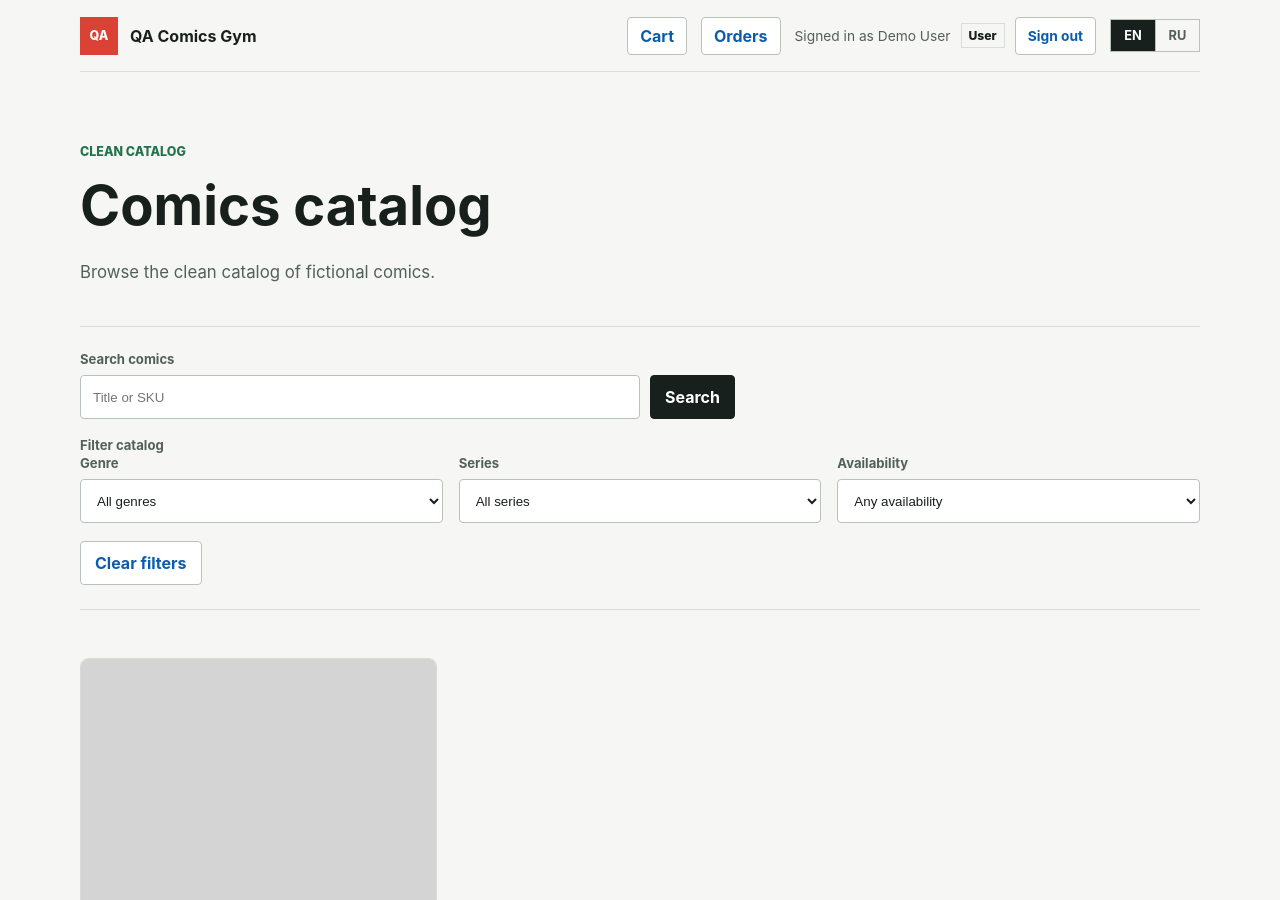
it: frontend auth flow › logs out from authenticated shell state
This screenshot has width=1280, height=900.
Expected: the text "Signed in as Demo User" is shown, [794,28,950,44]
Click the button "Sign out" at (1055,36), box [1015,16,1096,54]
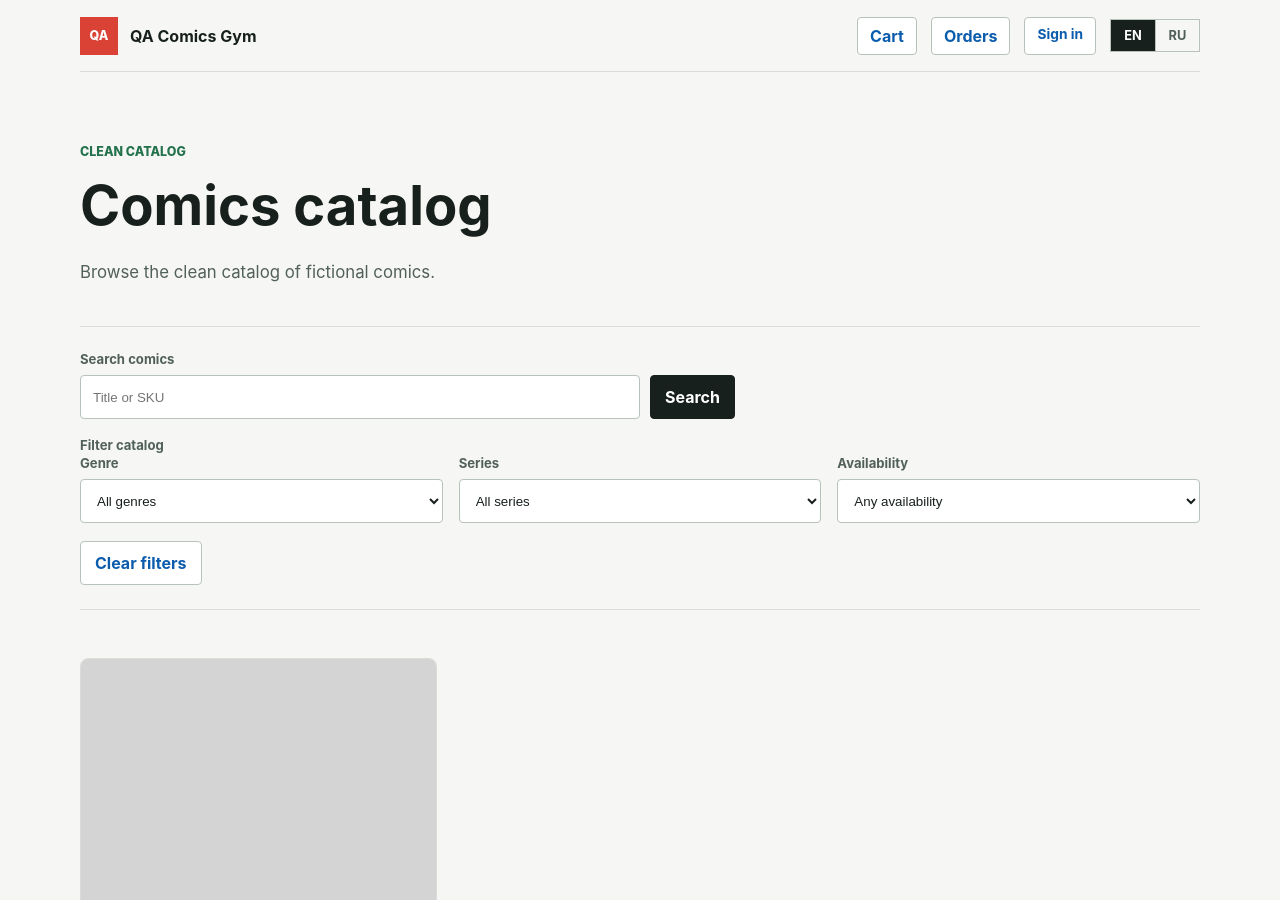
Now the link "Sign in" is shown, box [1024,16,1096,54]
